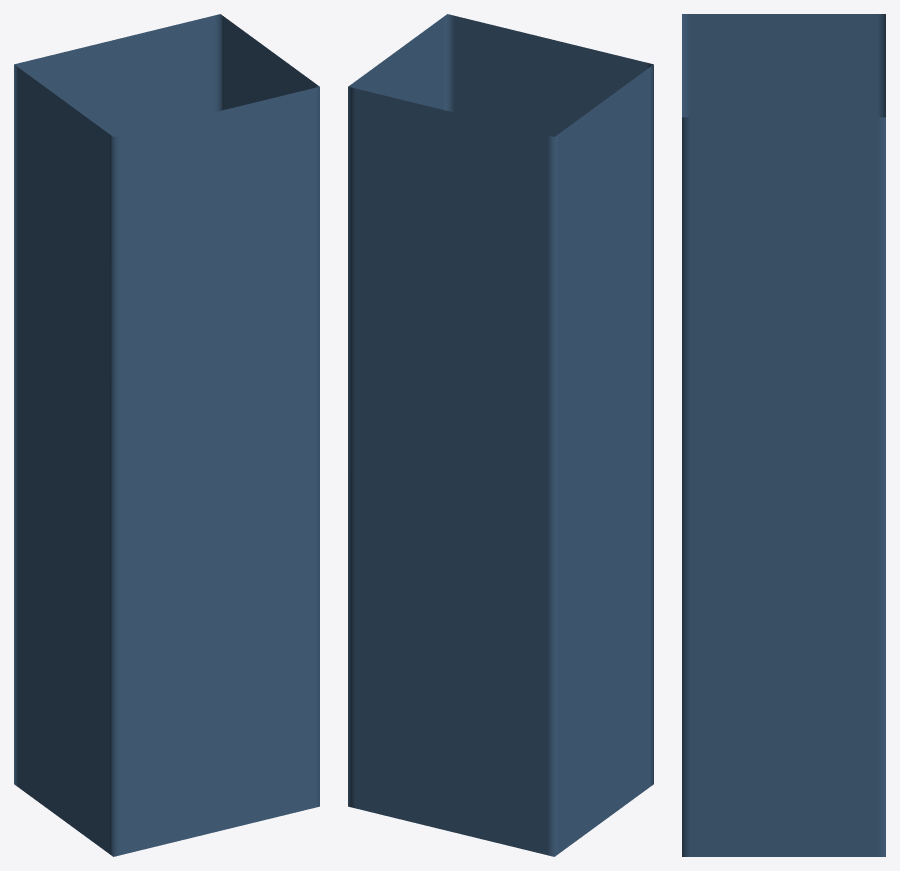
The model's file is SM_pillar_middle.fbx.
The picture shows the model from 3 angles, left to right: view 1: azimuth 30°, elevation 25°; view 2: azimuth 150°, elevation 25°; view 3: azimuth 270°, elevation 25°; orthographic projection. The views are drawn at different scales.
Visible parts, largest first — view 1: SM_pillar_middle; view 2: SM_pillar_middle; view 3: SM_pillar_middle.
Boxes of the visible parts, x1,y1,x2,y2 form: SM_pillar_middle: (14, 14, 319, 856); SM_pillar_middle: (348, 14, 653, 856); SM_pillar_middle: (682, 14, 885, 856).
Bounding box in the file's own units: 60 × 200 × 50.
